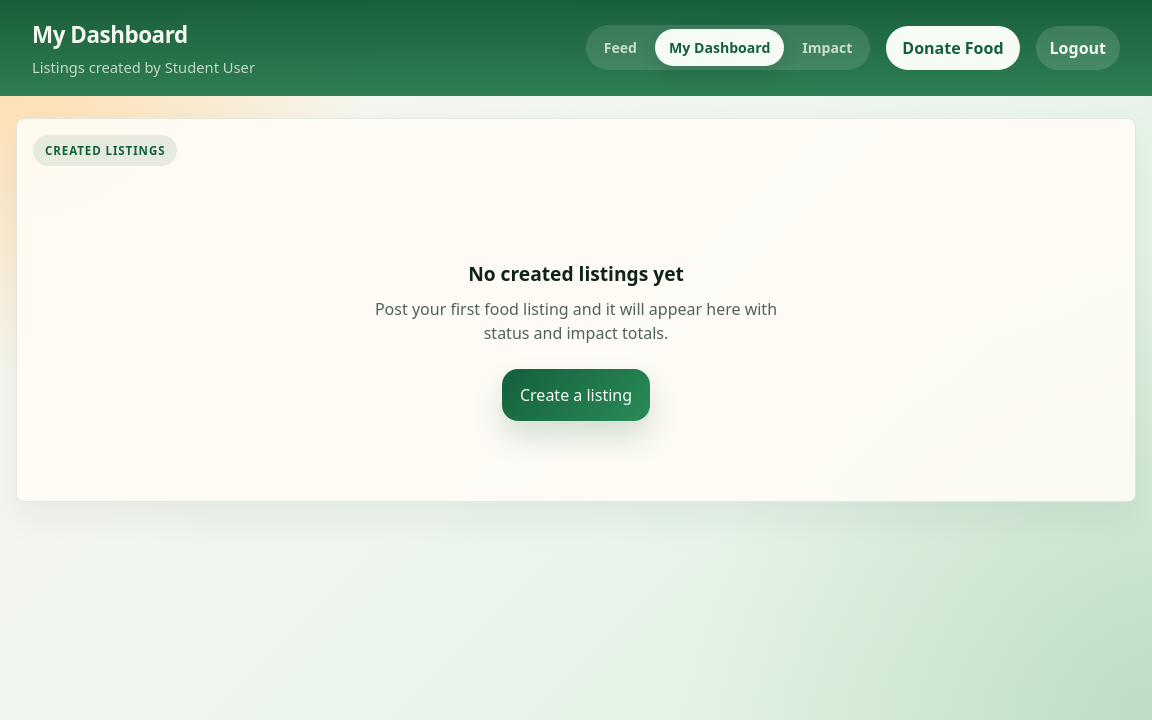
Test: Donate Food modal › opens the donate form on the dashboard without navigating away
This screenshot has width=1152, height=720.
Check: the heading "My Dashboard" is shown, box [32, 19, 188, 50]
Click the button "Donate Food" at (953, 48), box [886, 26, 1020, 70]
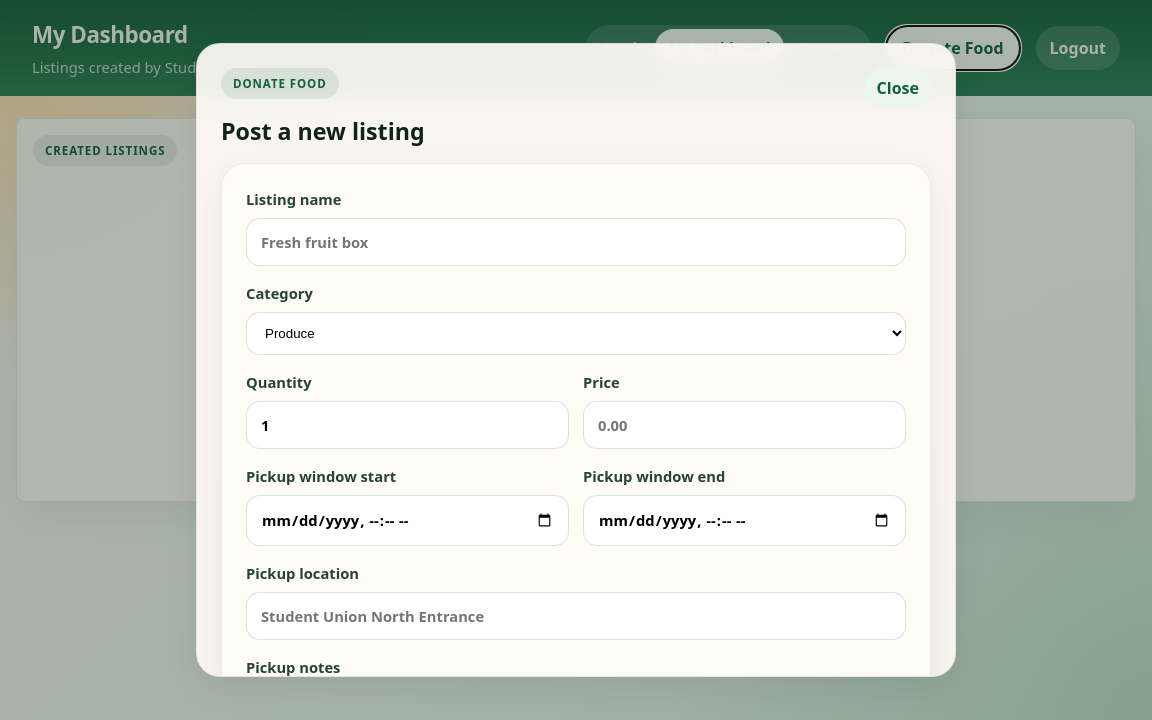
Check: the heading "My Dashboard" is shown, box [32, 19, 188, 50]
Check: the heading "Post a new listing" is shown, box [221, 120, 425, 145]
